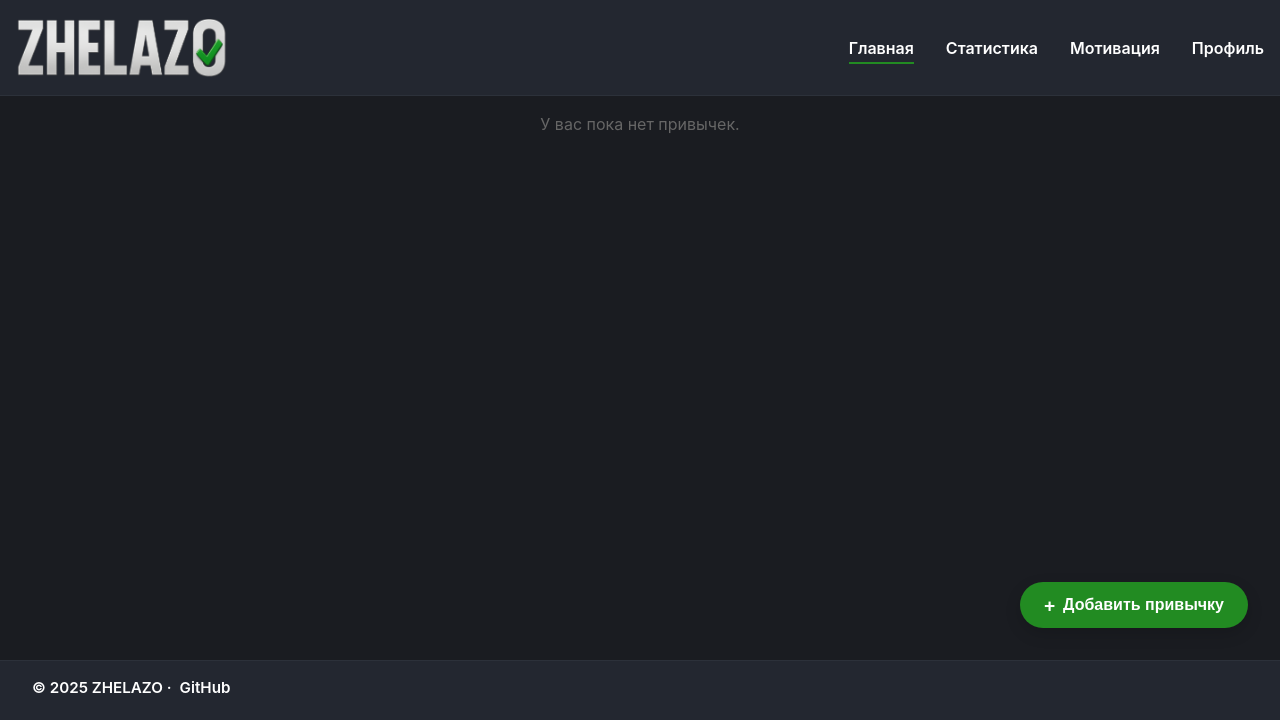
Zhelazo App E2E Tests › can navigate to Stats page
Click the link "Статистика" at (992, 48), box [946,36,1038,60]
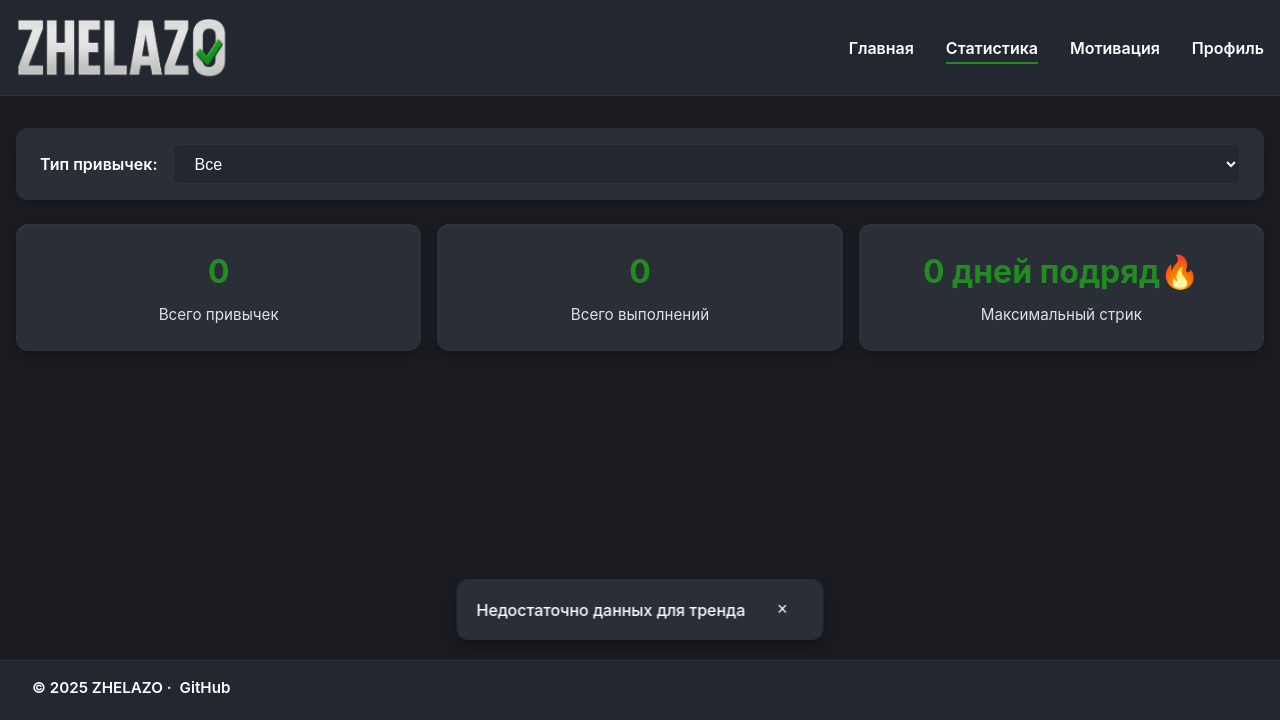
Expected: the text "Всего привычек" is shown, [159,305,279,324]
Expected: the text "Всего выполнений" is shown, [571,305,709,324]
Expected: the text "Максимальный стрик" is shown, [981,305,1142,324]
